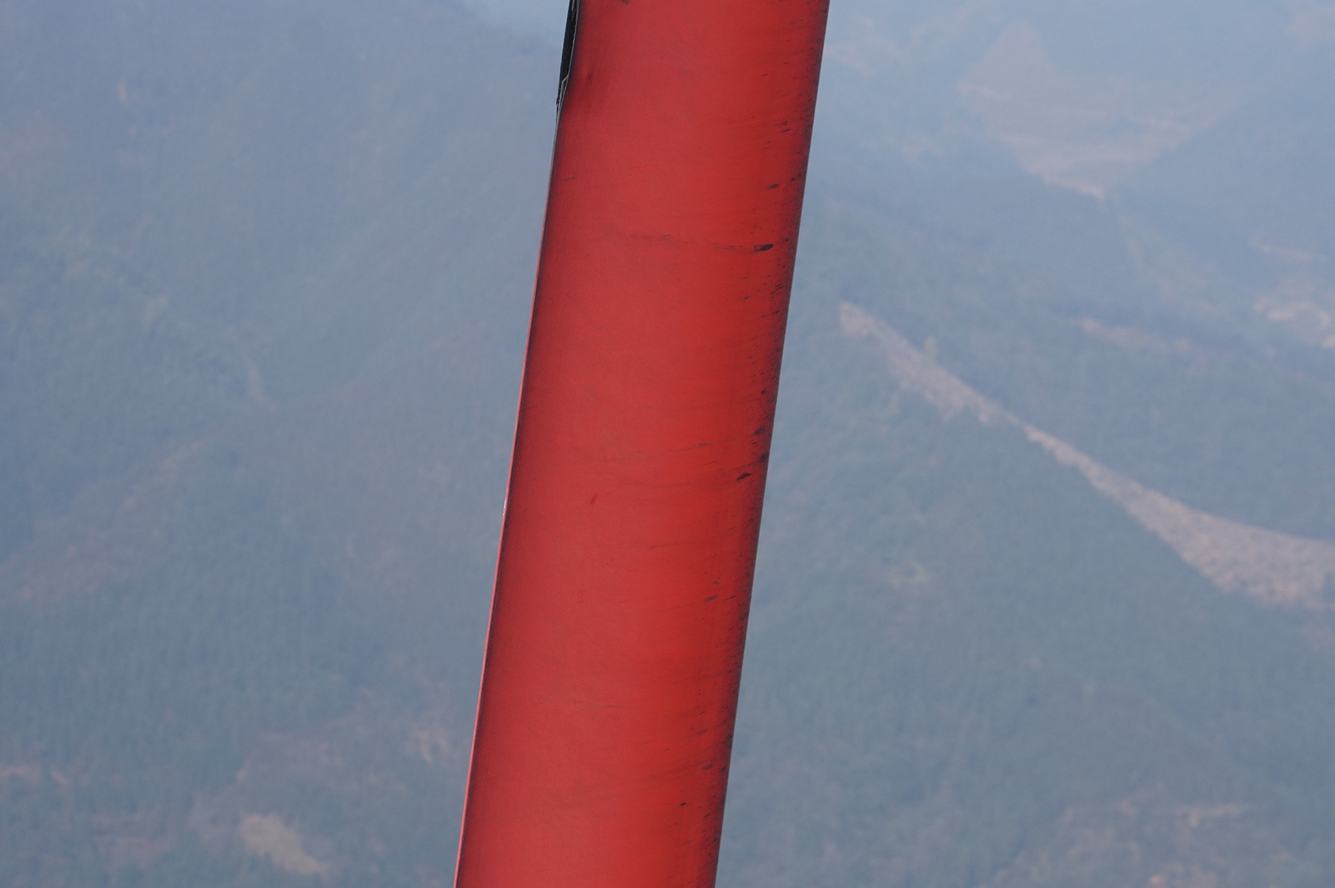Damage: (556, 0, 580, 117)
